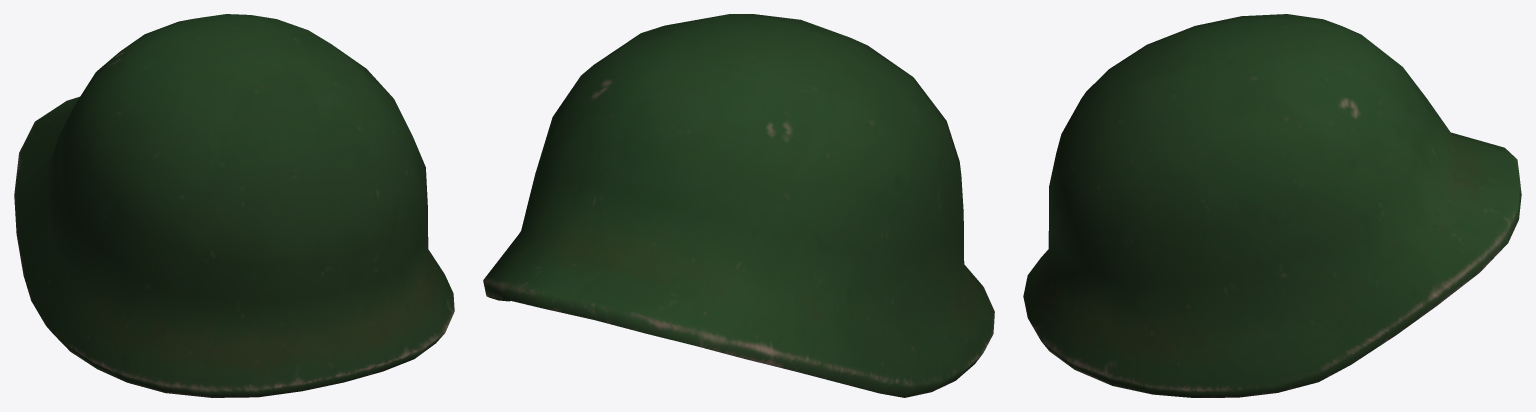
The model's file is IG_Helmat_LV2.fbx.
3 views of the same model, side by side, from view 1: azimuth 30°, elevation 25°; view 2: azimuth 150°, elevation 25°; view 3: azimuth 270°, elevation 25° (orthographic). The views are drawn at different scales.
Visible parts, largest first — view 1: Hair_Hat_LV2; view 2: Hair_Hat_LV2; view 3: Hair_Hat_LV2.
Part boxes in pixels (x1,y1,x2,y2): Hair_Hat_LV2: [14, 14, 454, 397]; Hair_Hat_LV2: [483, 14, 994, 397]; Hair_Hat_LV2: [1023, 14, 1521, 397].
Size of the model in its own units: 0.6528 by 0.4569 by 0.7409.
Materials: 1 (1 with a texture image).
